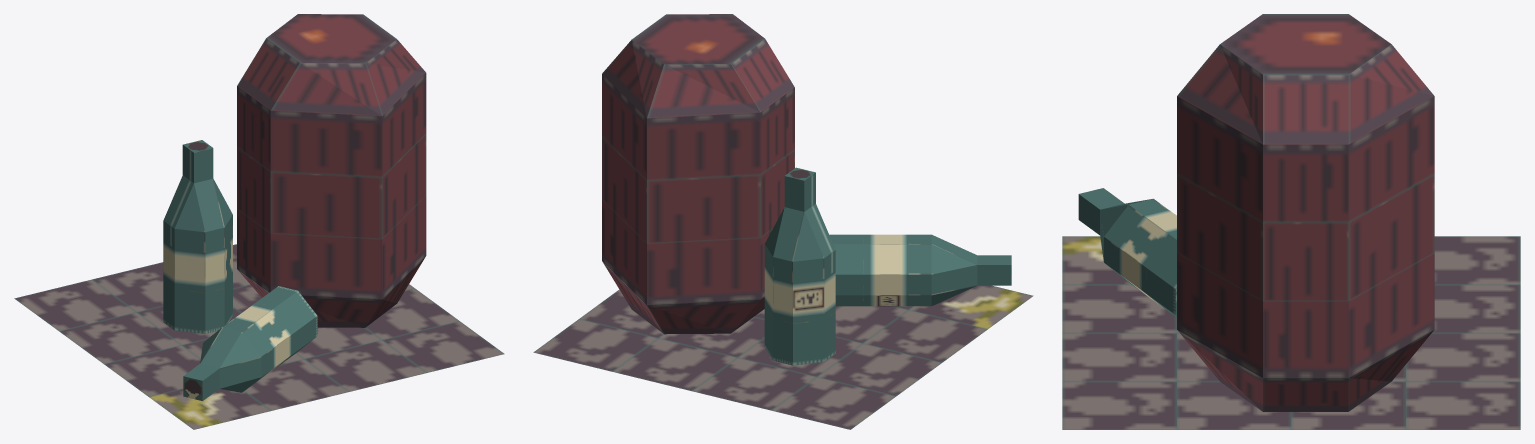
File: tono.obj
3 views of the same model, side by side, from view 1: azimuth 30°, elevation 25°; view 2: azimuth 150°, elevation 25°; view 3: azimuth 270°, elevation 25° (orthographic). The views are drawn at different scales.
Visible parts, largest first — view 1: tono; view 2: tono; view 3: tono.
Boxes of the visible parts, bbox=[...] form: tono: bbox=[14, 14, 504, 429]; tono: bbox=[533, 14, 1033, 429]; tono: bbox=[1062, 14, 1520, 429].
Bounding box in the file's own units: 8 × 6.5 × 8.
Materials: 1 (1 with a texture image).
